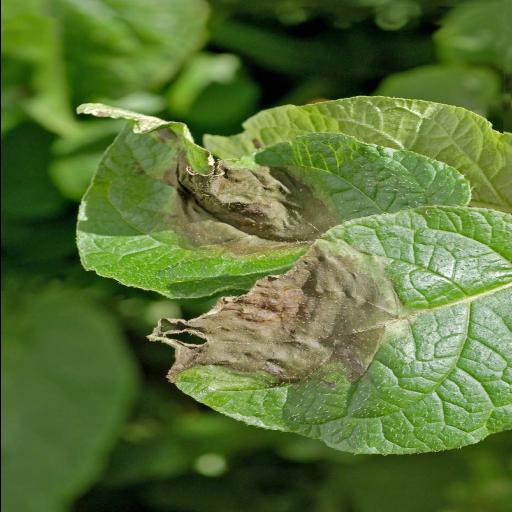Late Blight: (142, 210, 512, 458), (69, 95, 477, 299)
